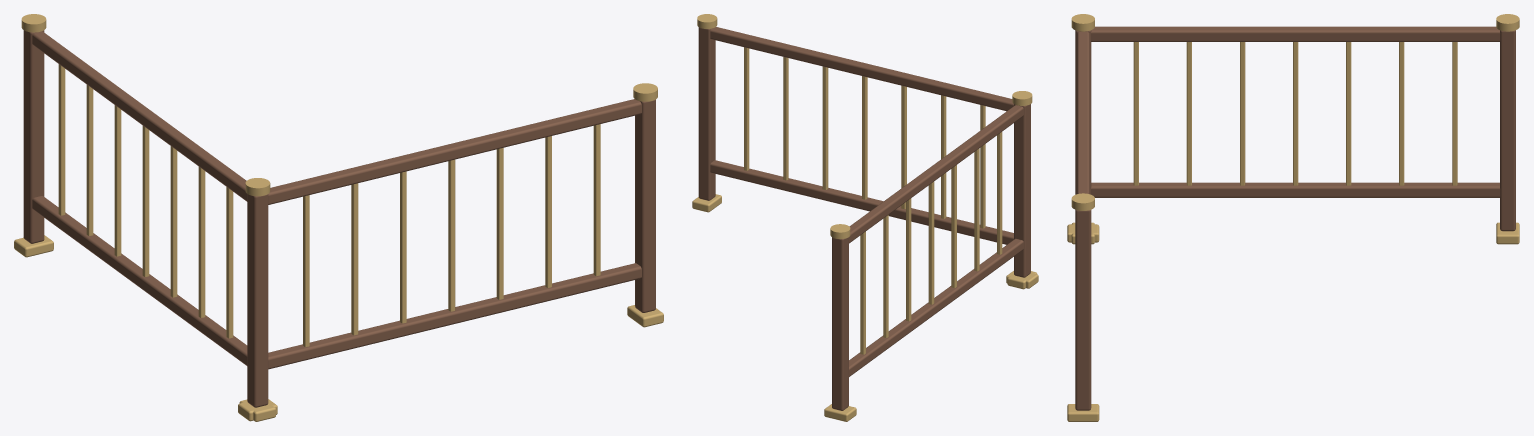
The model's file is griffin-airmail-roost-and-posthouse-platform-railing-c-ef581b27__30498.glb.
3 views of the same model, side by side, from view 1: azimuth 30°, elevation 25°; view 2: azimuth 150°, elevation 25°; view 3: azimuth 270°, elevation 25° (orthographic). The views are drawn at different scales.
Parts seen in each view (by area): view 1: platform-railing-corner; view 2: platform-railing-corner; view 3: platform-railing-corner.
Part boxes in pixels (bbox=[...]): platform-railing-corner: bbox=[14, 14, 663, 421]; platform-railing-corner: bbox=[692, 14, 1038, 421]; platform-railing-corner: bbox=[1067, 14, 1519, 421].
Size of the model in its own units: 2.13 by 1.14 by 2.13.
